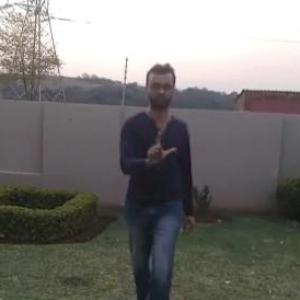land_hand: (140, 127, 175, 168)
